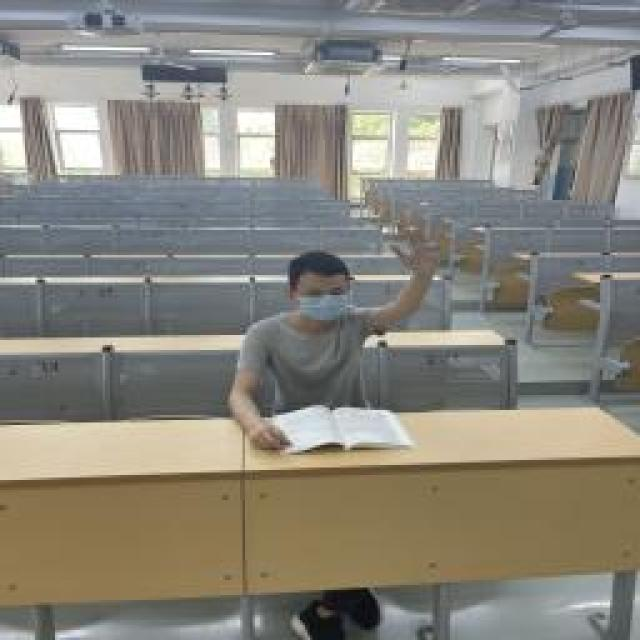study: (233, 228, 435, 450)
